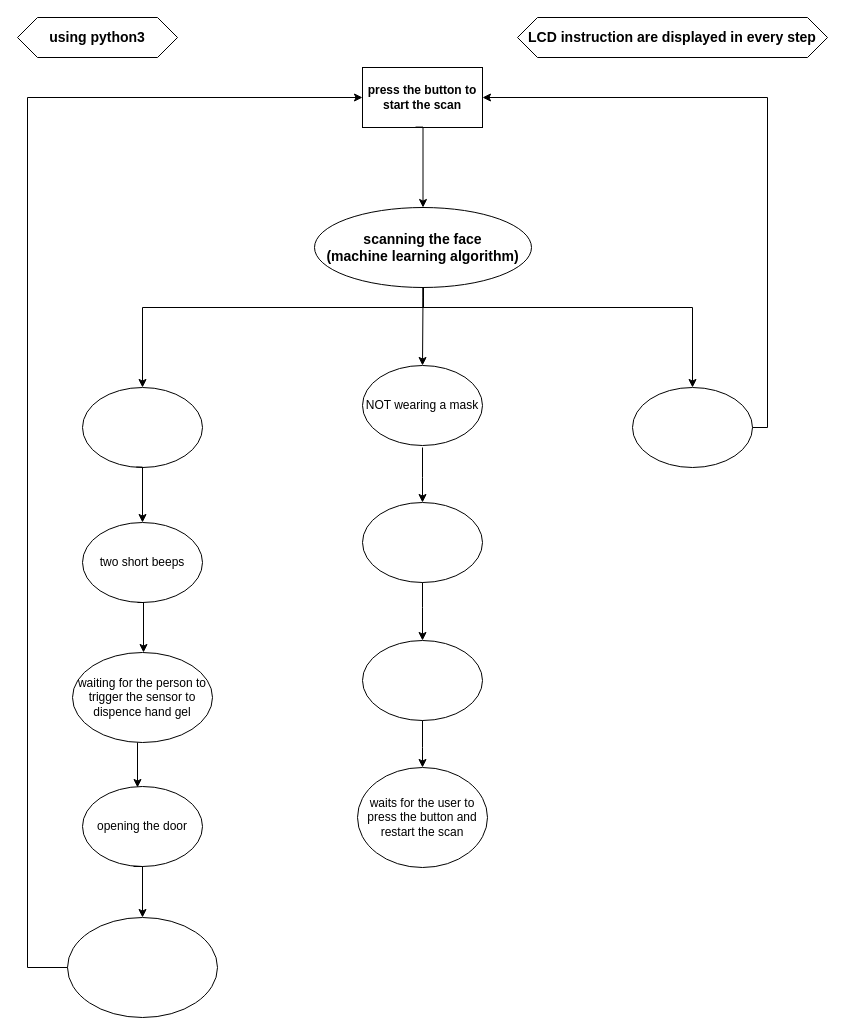
Some shapes in this 845 by 1035 pixel diagram are drawn without their labels. The shapes that lost their labels are listed below. From the top down, each one's box as (x1, y1, x2, y2) in pixels, then its label:
(82, 386, 202, 468): wearing a mask
(632, 386, 752, 468): no face detected
(362, 502, 482, 582): one long beep
(362, 640, 482, 720): dispence a mask with motor
(66, 916, 218, 1018): waits for fiew seconds an then relocks the door
